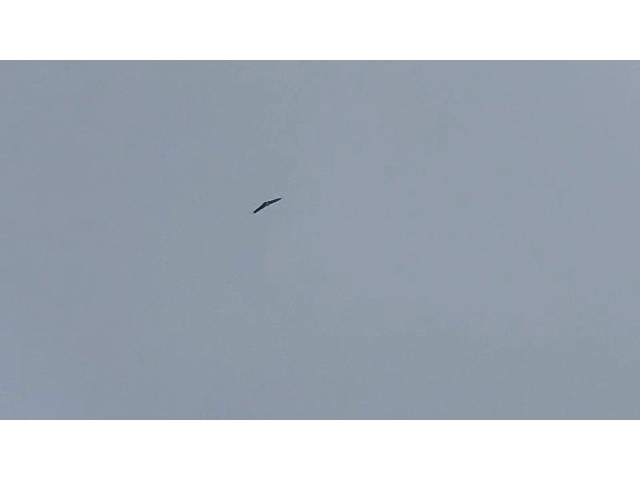Anti-Drone: (252, 196, 282, 214)
